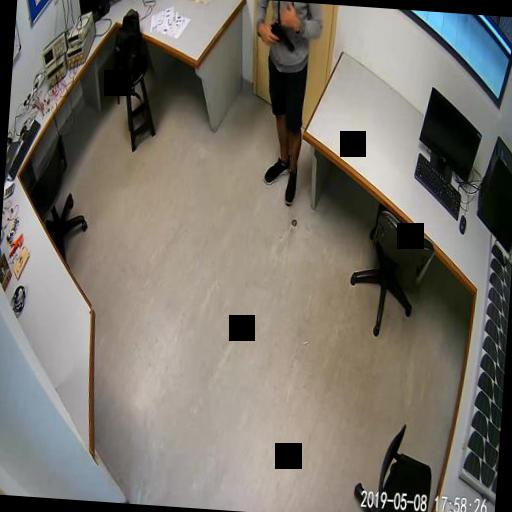Handgun: (268, 20, 296, 51)
